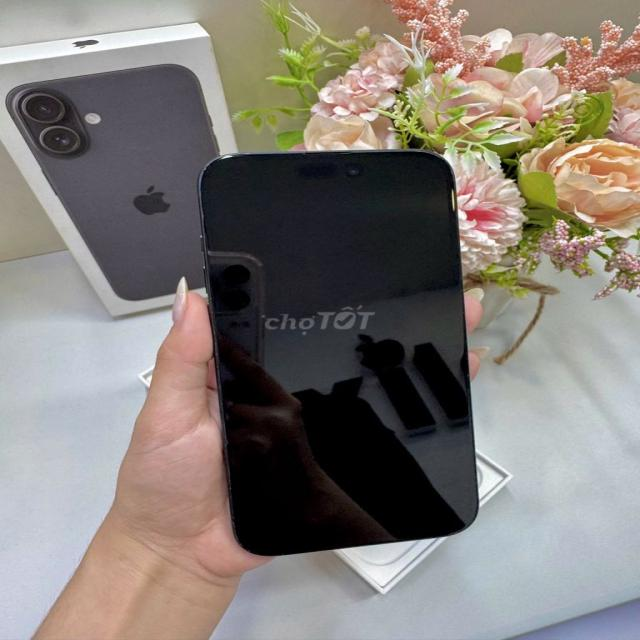scratch: (208, 384, 238, 526), (300, 147, 359, 162)
